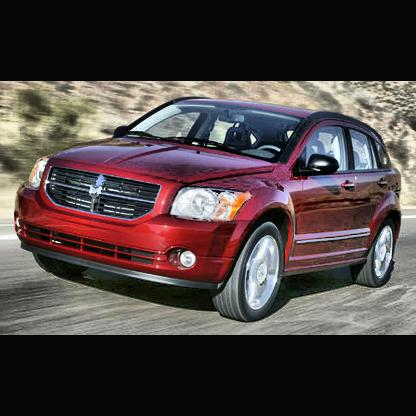Dodge Caliber Wagon 2007: (15, 96, 403, 322)
